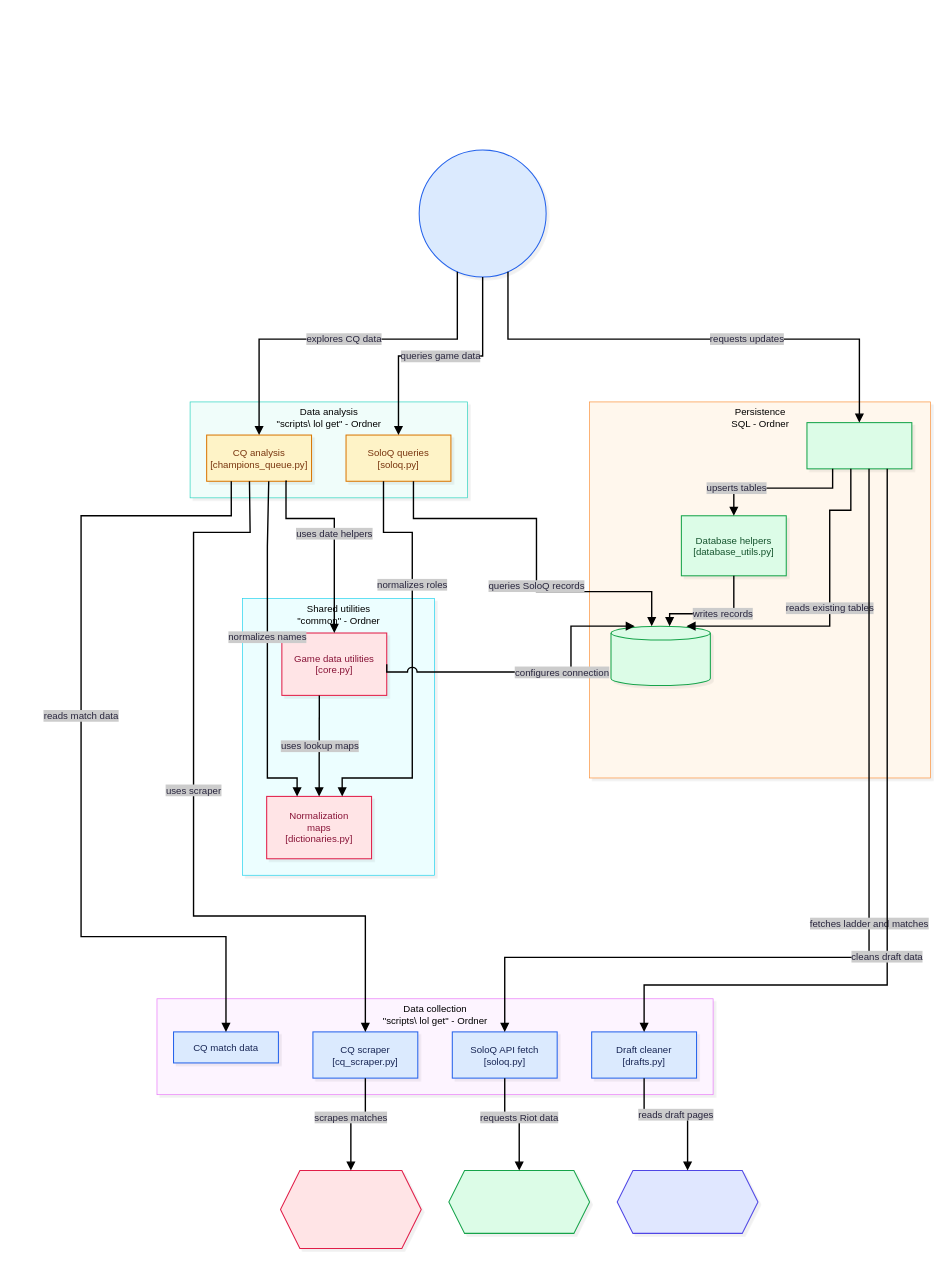
This 945x1263 diagram has some shape labels left out. Each missing label, with the centre of its shape:
Champions Queue site: (x=352, y=1211)
Leaguepedia: (x=688, y=1203)
PostgreSQL: (x=661, y=656)
Riot API: (x=520, y=1203)
Table updates [update_table.py]: (x=860, y=447)
User: (x=483, y=214)
